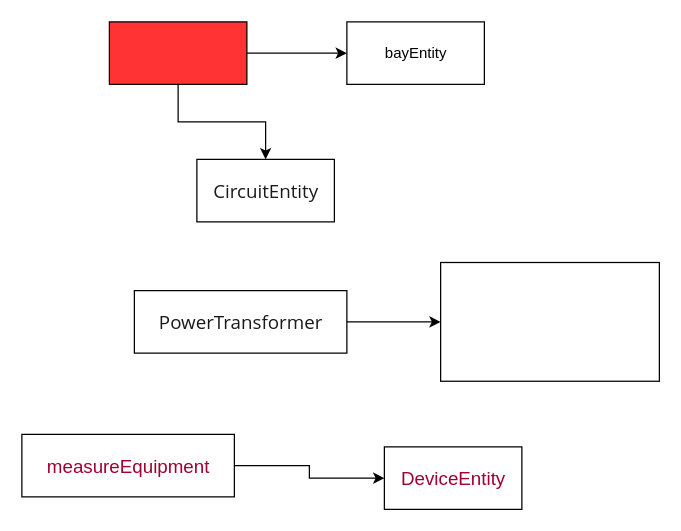
This 681x531 diagram has some shape labels left out. The shapes that lost their labels are listed below. From the top down, each one's box as (x1, y1, x2, y2) in pixels, then its label:
(108, 21, 247, 84): bay
(439, 261, 659, 381): PowerTransformerEntity
